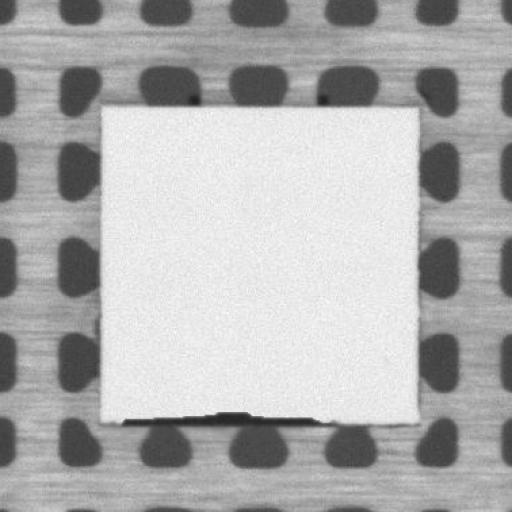DIE_BROKEN: (119, 404, 337, 428)
